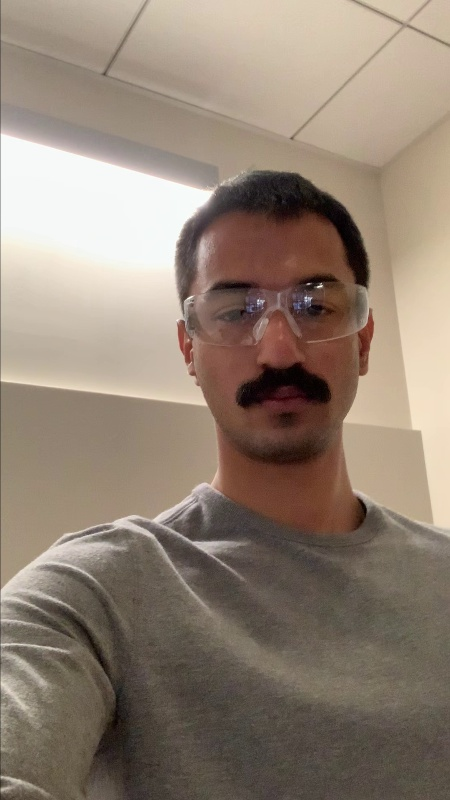glasses: (182, 280, 367, 353)
